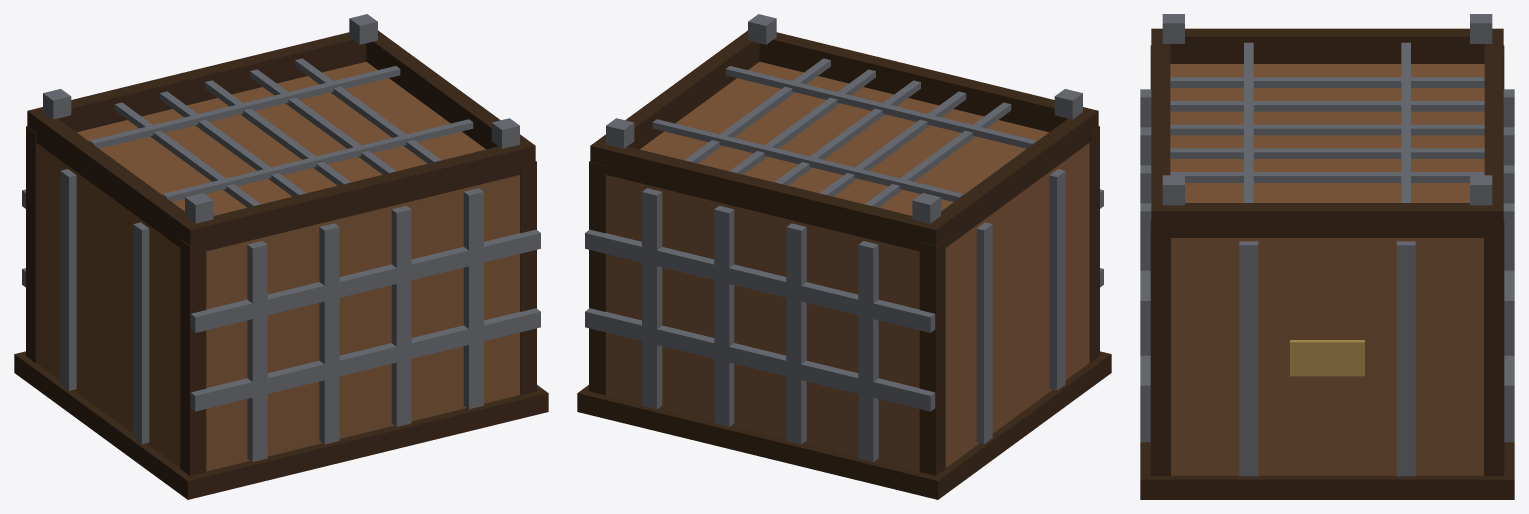
Rendered from SN_Cargo_Small_Hold.glb.
3 renders of one model, left to right at view 1: azimuth 30°, elevation 25°; view 2: azimuth 150°, elevation 25°; view 3: azimuth 270°, elevation 25°, orthographic. The views are drawn at different scales.
Parts seen in each view (by area): view 1: SN_Cargo_Small_Hold; view 2: SN_Cargo_Small_Hold; view 3: SN_Cargo_Small_Hold.
Part boxes in pixels (left/top/right/bottom): SN_Cargo_Small_Hold: left=14, top=14, right=548, bottom=499; SN_Cargo_Small_Hold: left=577, top=14, right=1111, bottom=499; SN_Cargo_Small_Hold: left=1140, top=14, right=1514, bottom=499.
Bounding box in the file's own units: 2.4 × 1.8 × 2.
